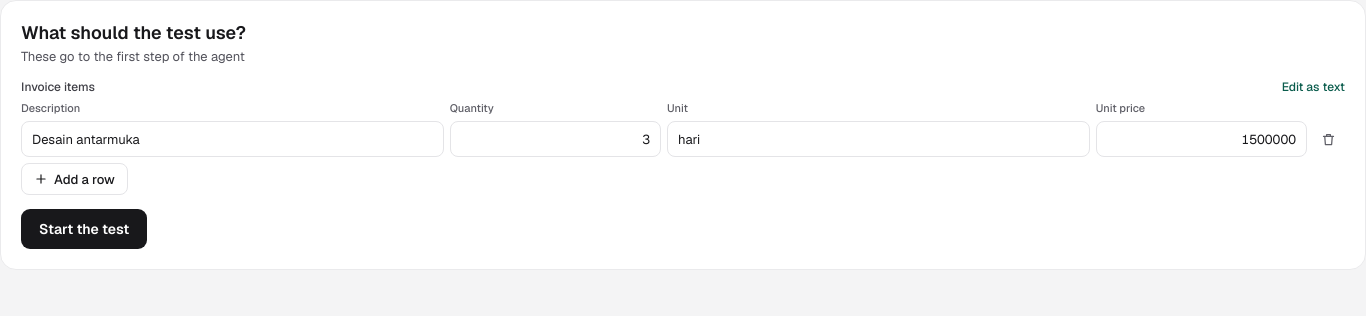
it: a list input in the test form › says which cell is not a number and does not start
The image size is (1366, 316).
Replace the text in the field named "Quantity, row 1" with "tiga" at (555, 139), box [450, 121, 661, 157]
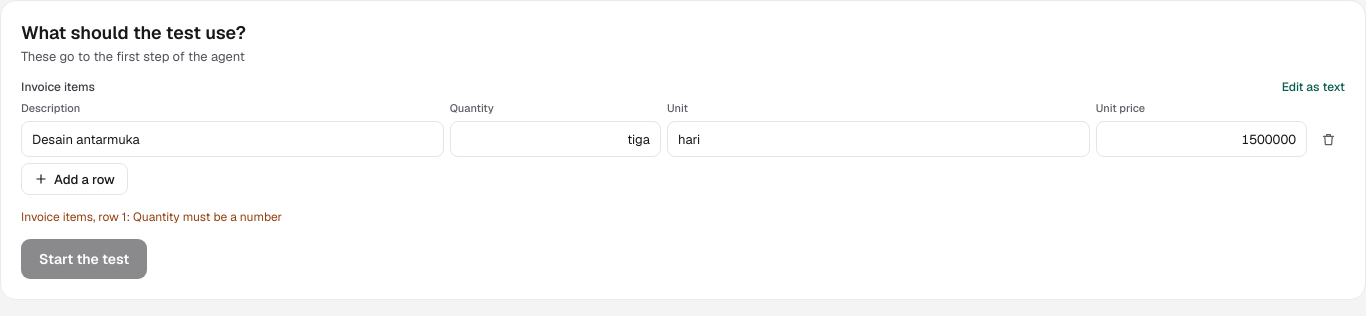
Expected: the text "Invoice items, row 1: Quantity must be a number" is shown, [21, 209, 282, 225]
Expected: the button "Start the test" is disabled, [21, 239, 147, 279]
